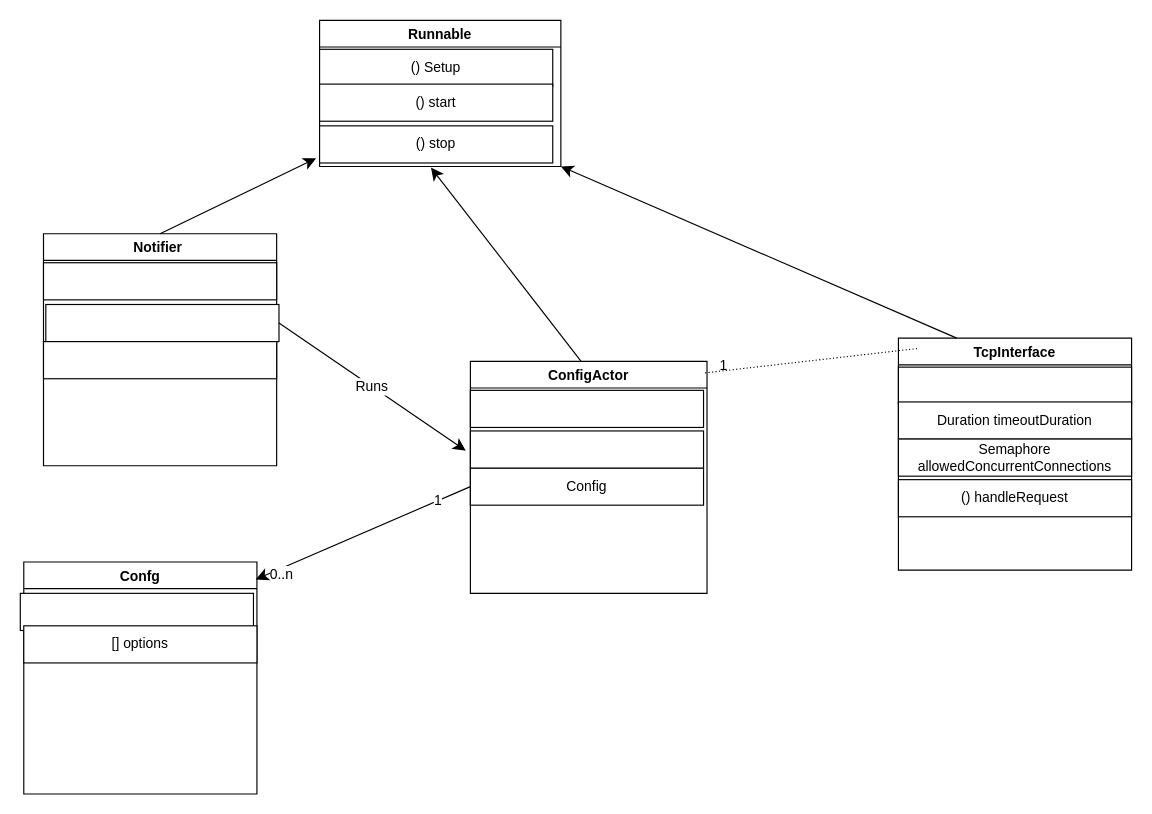
This 1152x814 diagram has some shape labels left out. Here are the shapes that lost their labels. From the top down, the centre of each, then its label:
At point (159, 281): "string path".
At point (162, 322): "() sendToActor".
At point (159, 359): "() watch".
At point (1014, 385): "() listen".
At point (586, 408): "Channel receiver".
At point (586, 449): "Create config".
At point (136, 611): "string title".
